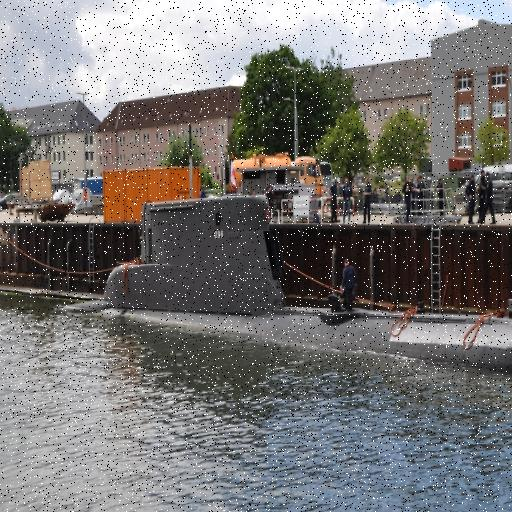submarine: (74, 196, 512, 366)
